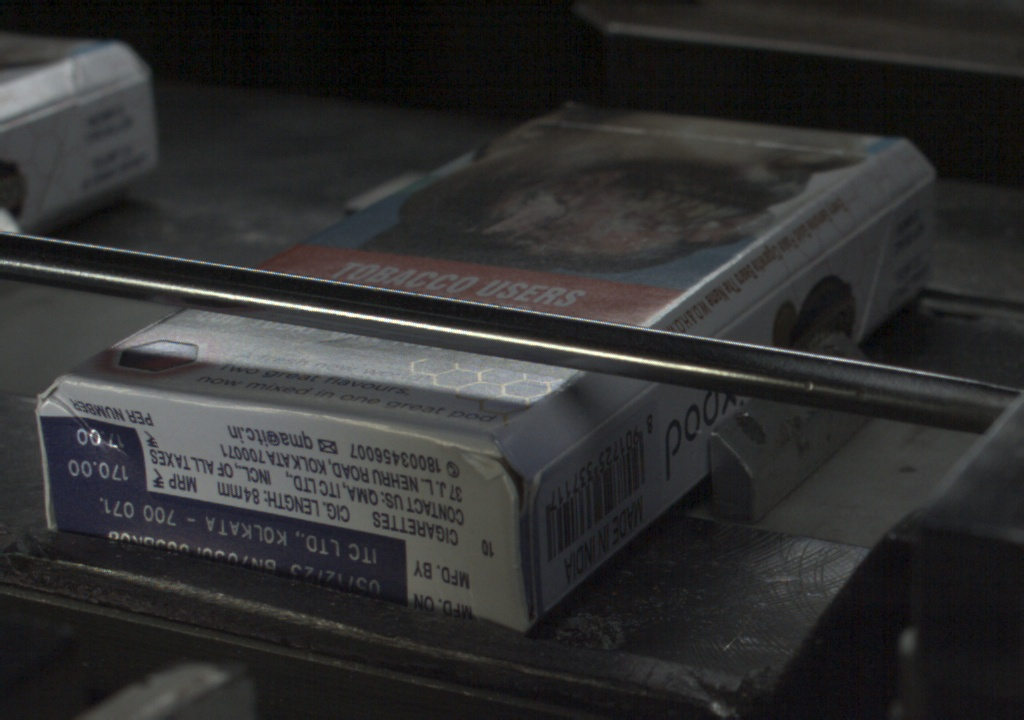g_lmiter: (717, 266, 807, 332), (805, 205, 889, 266), (593, 381, 660, 430), (532, 427, 596, 478)
g_miter: (889, 165, 933, 204)
ng_bottom: (33, 375, 155, 549), (454, 454, 528, 500)
ng_label: (47, 486, 408, 602)
price: (45, 419, 145, 486)
